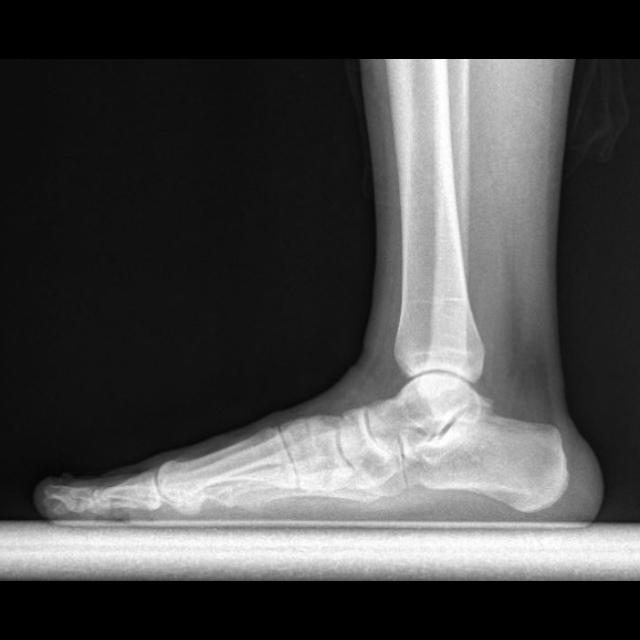a: (417, 404, 565, 513)
b: (336, 404, 398, 484)
c: (153, 428, 297, 500)
